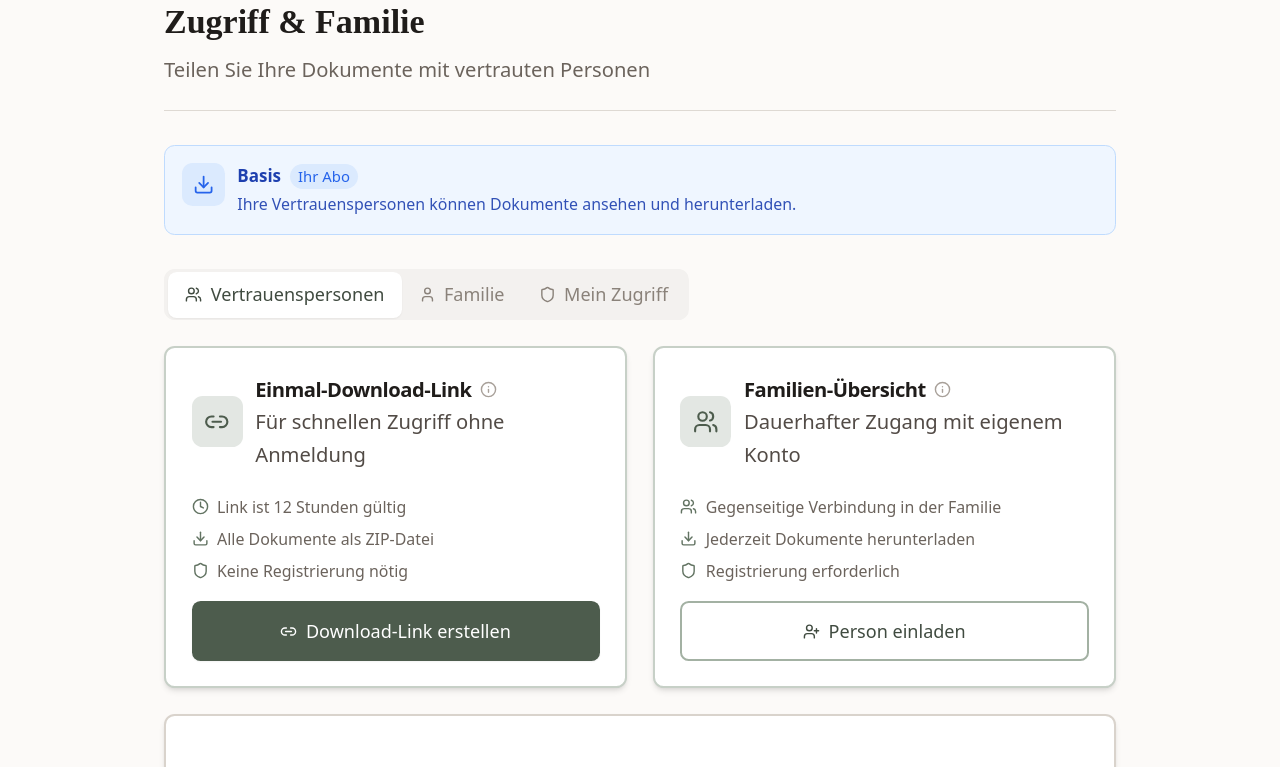
ZugriffPage Familie Tab Full Integration › Familie Tab Empty States › should show info box when user only has outgoing members
Expected: the heading "Zugriff & Familie" is shown, [164,3,425,40]
Click the tab "Familie": x=462, y=295 [402,272,522,318]
(page scrolled)
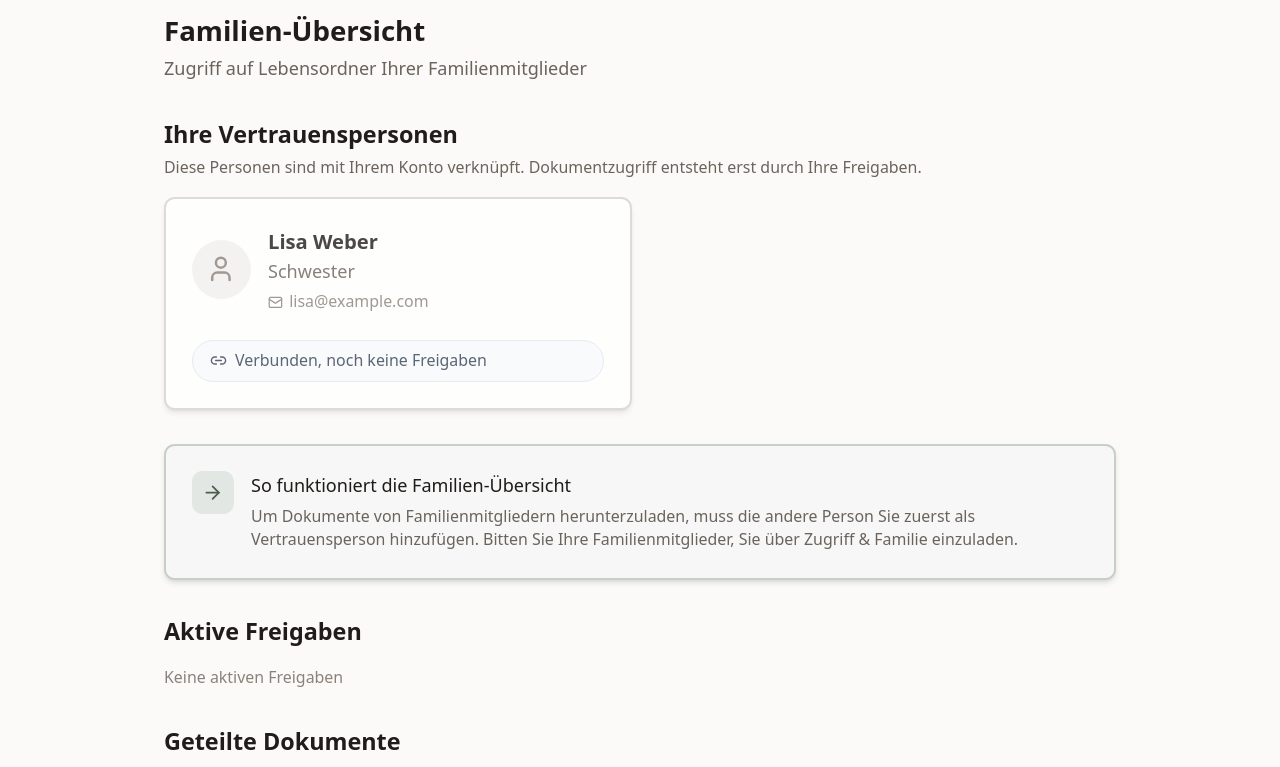
Result: the text "So funktioniert die Familien-Übersicht" is shown at [251,473,571,497]
